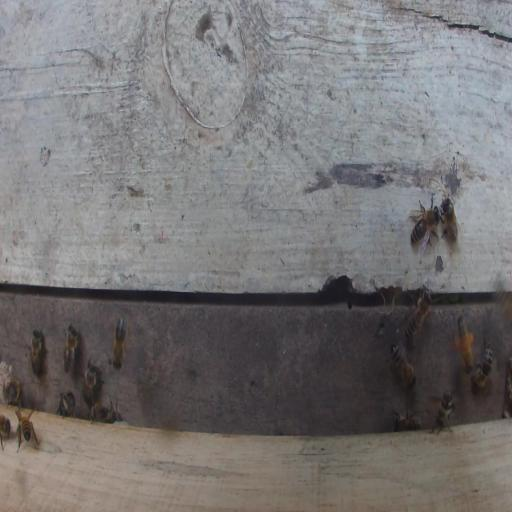bee: (409, 191, 441, 257), (405, 287, 432, 343), (470, 336, 493, 390), (454, 314, 475, 373), (390, 342, 416, 389), (430, 389, 455, 435), (15, 406, 38, 453), (82, 359, 102, 409), (439, 194, 459, 242), (62, 323, 80, 375), (112, 316, 126, 371), (30, 328, 44, 378), (392, 410, 423, 432), (4, 367, 21, 405), (90, 401, 117, 422), (57, 390, 75, 418), (0, 413, 12, 449)
